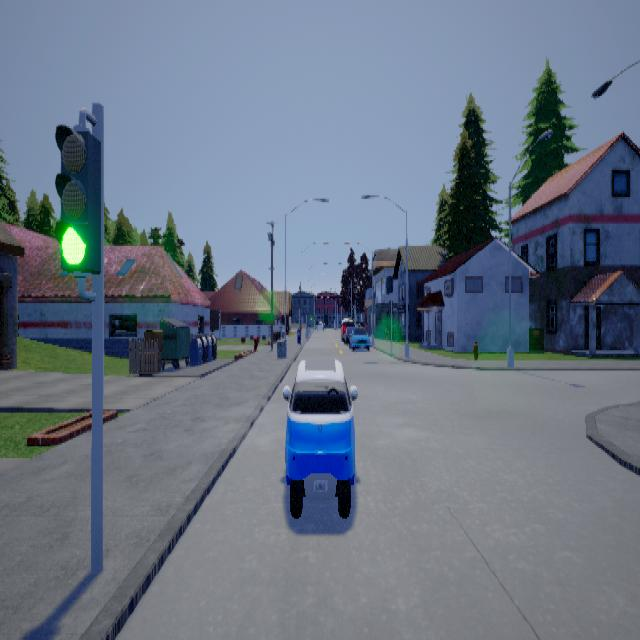green_light: (56, 106, 102, 300)
vehicle: (284, 357, 359, 517), (342, 317, 372, 350)
